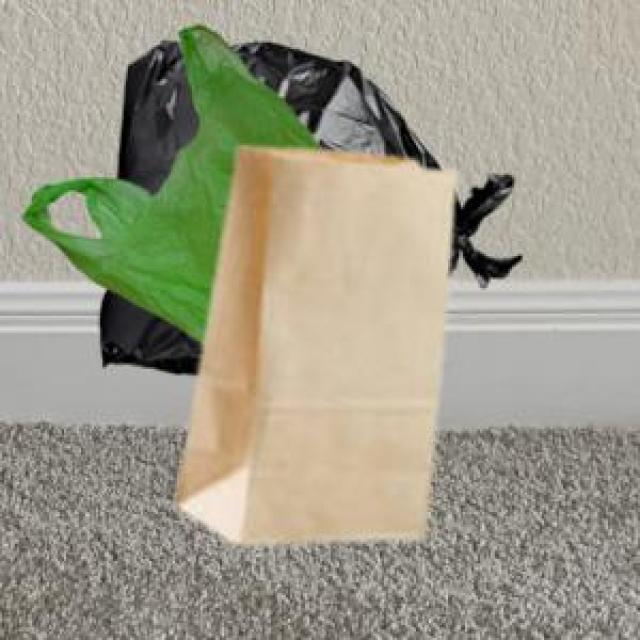miscellaneous trash: (96, 36, 516, 371)
paper: (173, 143, 451, 540)
